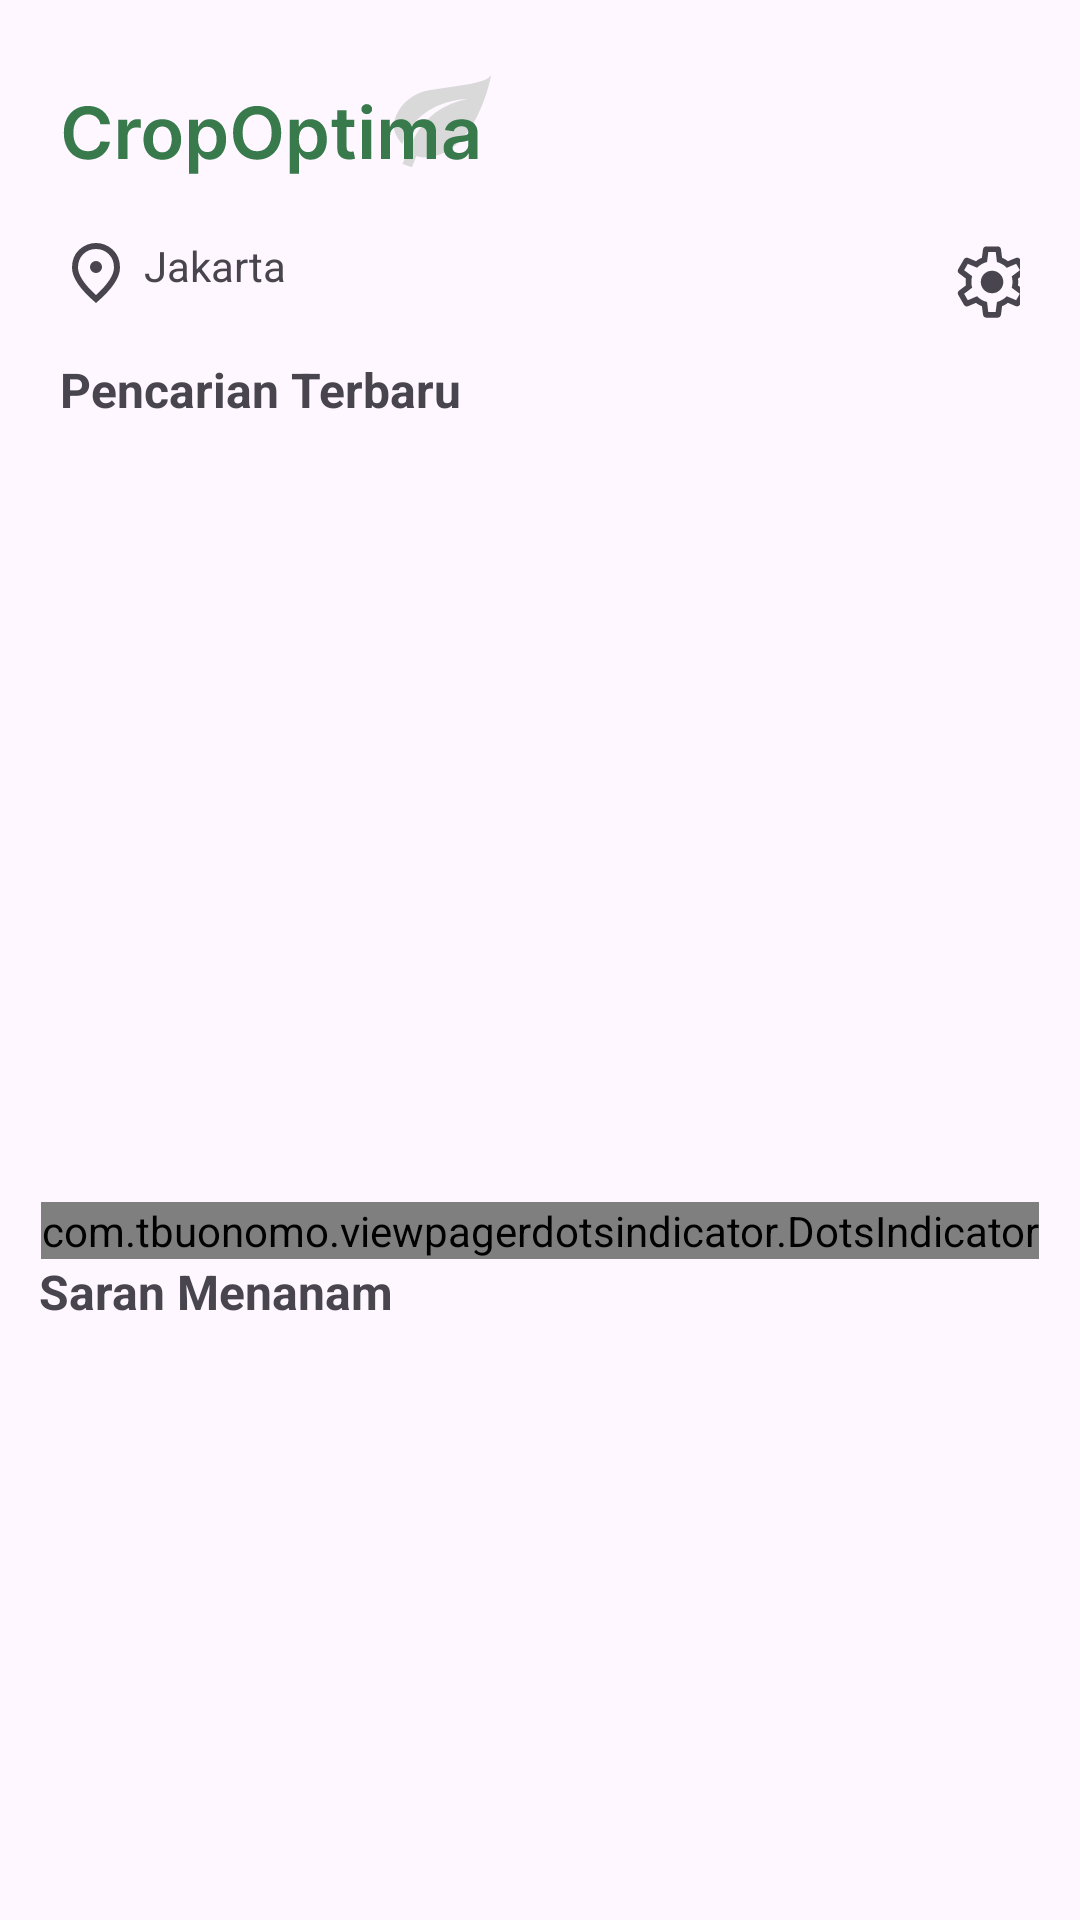

Named icons in this screenshot (1080 × 1920) and their bounding boxes, [left=x1, top=y1, right=x2, bottom=y2]:
location: [left=72, top=243, right=120, bottom=303]
